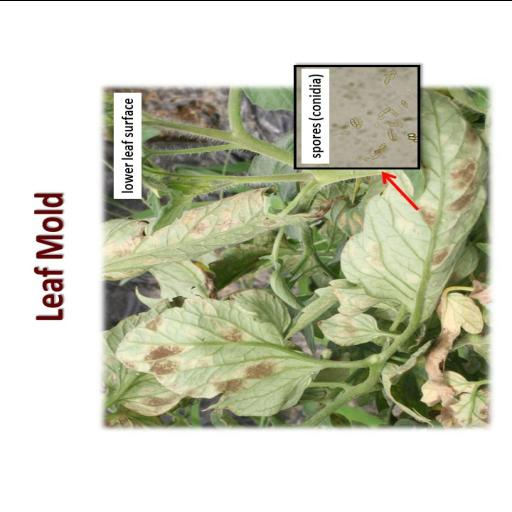Leaf Mold: (112, 294, 327, 416), (340, 168, 488, 318), (106, 188, 310, 281)
